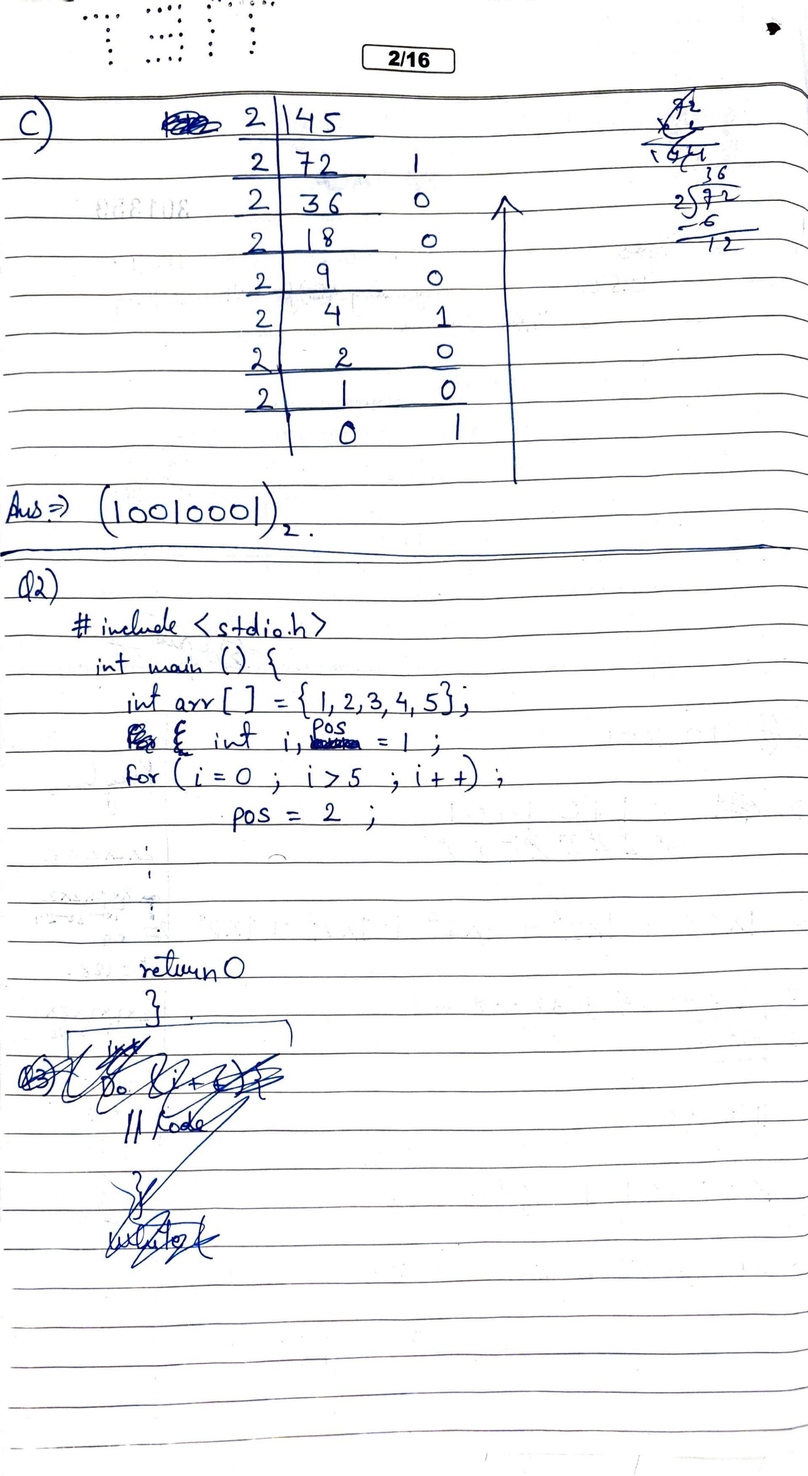cuttings: (12, 1035, 290, 1275), (639, 88, 725, 175), (159, 109, 223, 140), (123, 721, 158, 755), (171, 719, 197, 760), (309, 736, 363, 752)
